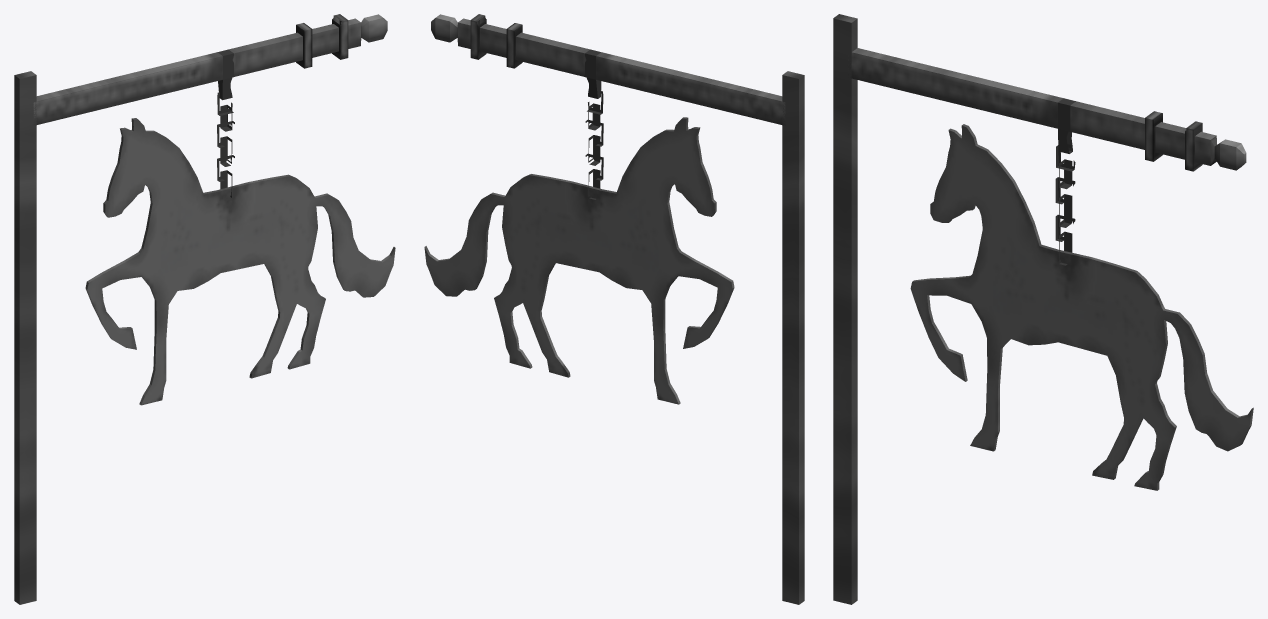
Rendered from sign_360x07.obj.
3 views of the same model, side by side, from view 1: azimuth 30°, elevation 25°; view 2: azimuth 150°, elevation 25°; view 3: azimuth 330°, elevation 25° (orthographic). The views are drawn at different scales.
Visible parts, largest first — view 1: Sign_360x7; view 2: Sign_360x7; view 3: Sign_360x7.
Part boxes in pixels (bbox=[...]): Sign_360x7: bbox=[14, 14, 395, 604]; Sign_360x7: bbox=[424, 14, 804, 604]; Sign_360x7: bbox=[833, 14, 1253, 604].
Size of the model in its own units: 2.97 by 3.97 by 0.1135.
